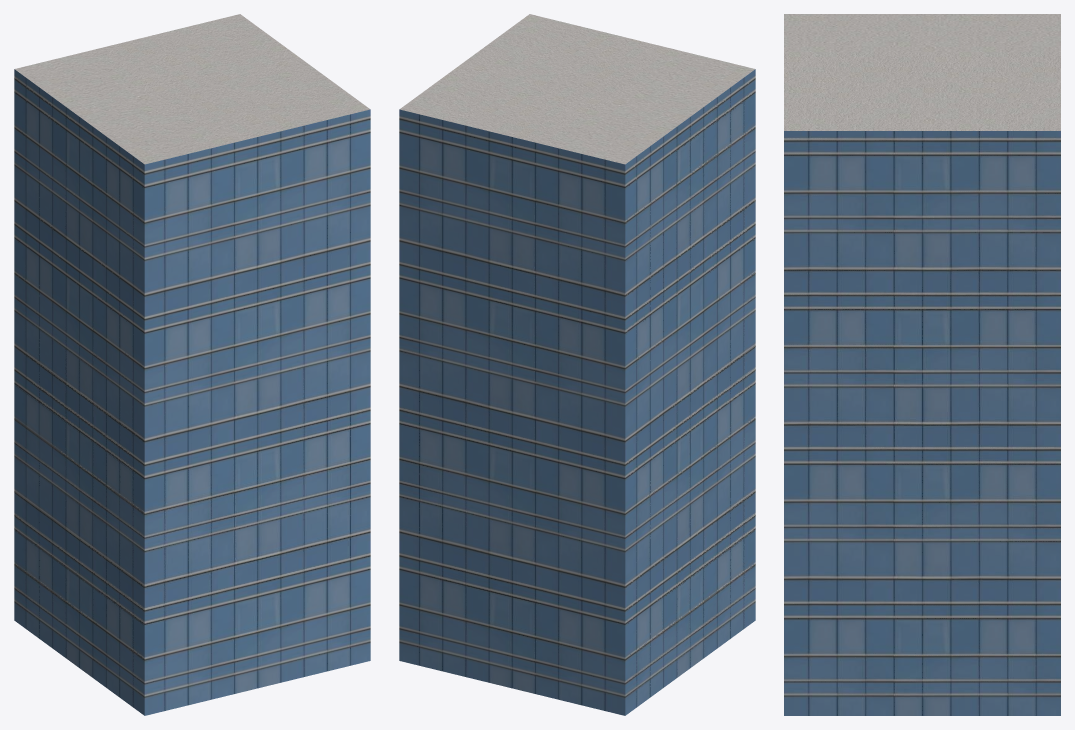
3 renders of one model, left to right at view 1: azimuth 30°, elevation 25°; view 2: azimuth 150°, elevation 25°; view 3: azimuth 270°, elevation 25°, orthographic. The views are drawn at different scales.
Parts seen in each view (by area): view 1: building18, building18_cell.002, building18_cell.001, building18_cell; view 2: building18, building18_cell, building18_cell.002, building18_cell.001; view 3: building18, building18_cell, building18_cell.001.
Part boxes in pixels (left/top/right/bottom): building18: left=14, top=14, right=370, bottom=715; building18_cell.002: left=14, top=70, right=309, bottom=479; building18_cell.001: left=91, top=14, right=370, bottom=432; building18_cell: left=14, top=427, right=370, bottom=715; building18: left=399, top=14, right=755, bottom=715; building18_cell: left=399, top=385, right=755, bottom=715; building18_cell.002: left=458, top=69, right=755, bottom=478; building18_cell.001: left=399, top=14, right=679, bottom=455; building18: left=784, top=14, right=1060, bottom=715; building18_cell: left=784, top=498, right=1060, bottom=715; building18_cell.001: left=784, top=53, right=1060, bottom=498.
Bounding box in the file's own units: 2.03 × 4.73 × 2.03.
Materials: 2 (2 with a texture image).
